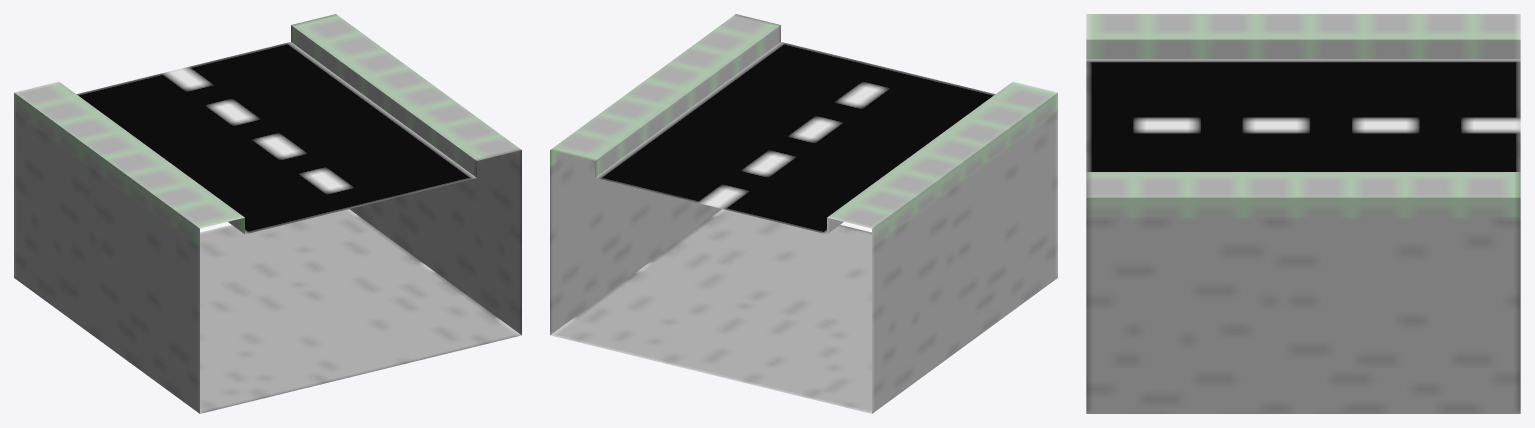
File: roadStraight.fbx
The picture shows the model from 3 angles, left to right: view 1: azimuth 30°, elevation 25°; view 2: azimuth 150°, elevation 25°; view 3: azimuth 270°, elevation 25°; orthographic projection. The views are drawn at different scales.
Visible parts, largest first — view 1: RoadStraight; view 2: RoadStraight; view 3: RoadStraight.
Part boxes in pixels (x1,y1,x2,y2): RoadStraight: [14, 14, 521, 413]; RoadStraight: [550, 14, 1057, 413]; RoadStraight: [1086, 14, 1520, 413].
Size of the model in its own units: 200 by 110 by 200.
